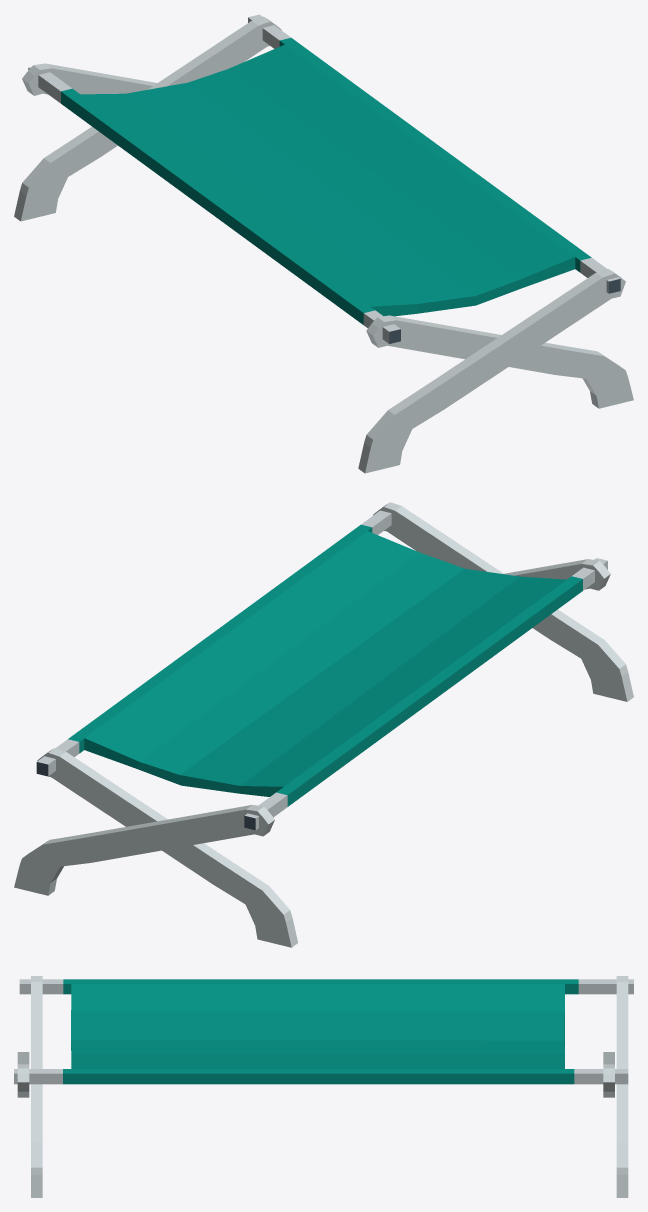
File: bed.glb
The picture shows the model from 3 angles, top to bottom: view 1: azimuth 30°, elevation 25°; view 2: azimuth 150°, elevation 25°; view 3: azimuth 270°, elevation 25°; orthographic projection. The views are drawn at different scales.
Parts seen in each view (by area): view 1: group525752226, group1224999123, group802491558, group1037513086, group2041126463, group215986146, group1577345827; view 2: group525752226, group1577345827, group2041126463, group802491558, group1224999123, group215986146, group1037513086; view 3: group525752226, group215986146, group802491558, group1577345827, group1037513086, group1224999123, group2041126463.
Part boxes in pixels (box(x1,y1,x2,y2)): group525752226: box(81, 44, 575, 316); group1224999123: box(358, 268, 625, 473); group802491558: box(28, 67, 400, 343); group1037513086: box(366, 315, 633, 408); group2041126463: box(14, 16, 281, 221); group215986146: box(248, 14, 620, 293); group1577345827: box(22, 63, 157, 95); group525752226: box(84, 531, 566, 796); group1577345827: box(14, 805, 274, 895); group2041126463: box(37, 748, 297, 947); group802491558: box(244, 558, 607, 830); group1224999123: box(373, 502, 633, 701); group215986146: box(36, 510, 391, 776); group1037513086: box(503, 559, 610, 590); group525752226: box(71, 984, 564, 1068); group215986146: box(14, 1069, 628, 1084); group802491558: box(19, 979, 633, 994); group1577345827: box(616, 976, 628, 1197); group1037513086: box(31, 976, 42, 1197); group1224999123: box(17, 1052, 29, 1097); group2041126463: box(603, 1052, 614, 1097).
Size of the model in its own units: 0.4737 by 0.2273 by 1.08.
